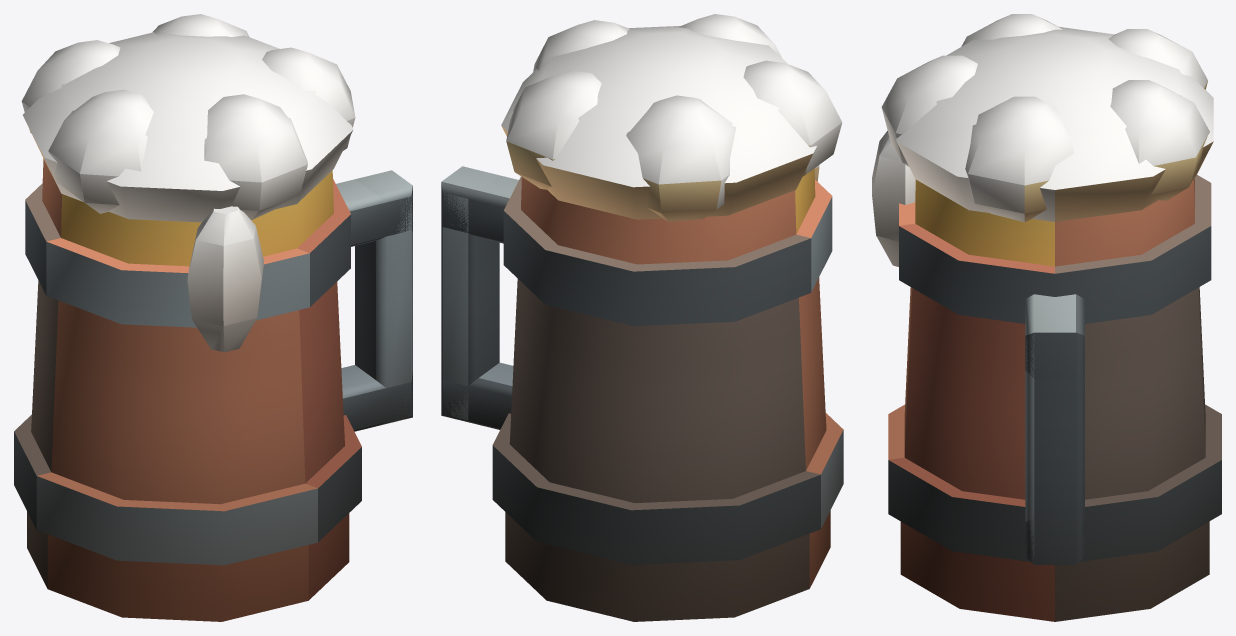
File: drink_beer_stein.glb
The picture shows the model from 3 angles, left to right: view 1: azimuth 30°, elevation 25°; view 2: azimuth 150°, elevation 25°; view 3: azimuth 270°, elevation 25°; orthographic projection.
Parts seen in each view (by area): view 1: Item; view 2: Item; view 3: Item.
Boxes of the visible parts, x1,y1,x2,y2 form: Item: (14, 14, 412, 621); Item: (441, 14, 843, 621); Item: (872, 14, 1221, 621).
Bounding box in the file's own units: 0.495 × 0.6403 × 0.4089.
Materials: 1 (1 with a texture image).
